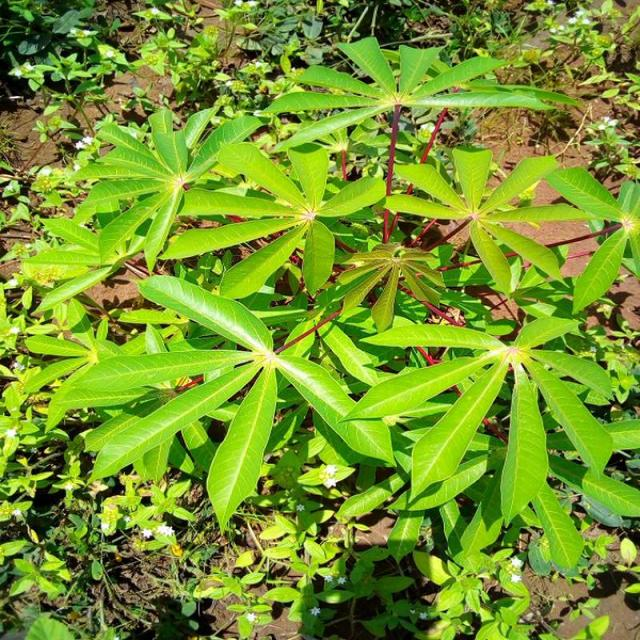cassava leaf: (19, 35, 638, 584)
